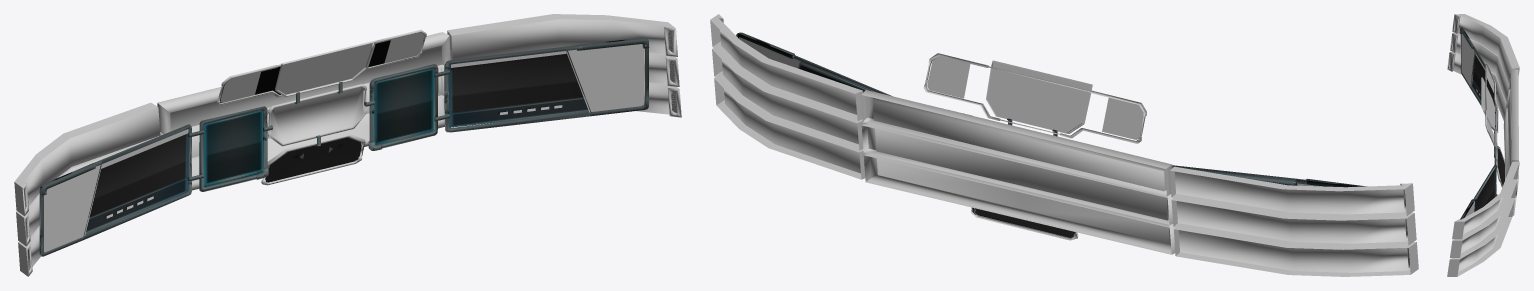
File: scoreboard.fbx
The picture shows the model from 3 angles, left to right: view 1: azimuth 30°, elevation 25°; view 2: azimuth 150°, elevation 25°; view 3: azimuth 270°, elevation 25°; orthographic projection. The views are drawn at different scales.
Visible parts, largest first — view 1: rearPanel_r_geo, teamHome_screen_geo, rearPanel_l_geo, rearPanel_center_geo, centerLow_screen_geo.003, teamHome_tile_geo, centerFrame_geo, centerLow_screen_geo.001, centerLow_screen_geo, teamTile_l_screen_geo, center_screen_geo, teamHome_frame_geo (+10 smaller); view 2: rearPanel_center_geo, rearPanel_l_geo, rearPanel_r_geo, center_screen_geo, sponsorship_frame_geo, centerScreen_geo.002, sponsorship_l_screen_geo, teamHome_frame_geo, center_r_frame_geo, progress_screen_geo, teamHome_tile_geo; view 3: rearPanel_r_geo, rearPanel_l_geo, rearPanel_center_geo, teamTile_l_screen_geo, teamHome_screen_geo, centerLow_screen_geo.003, center_screen_geo, center_r_frame_geo, sponsorship_frame_geo, teamHome_frame_geo, progress_screen_geo, progress_frame_geo (+5 smaller).
Boxes of the visible parts, x1,y1,x2,y2 form: rearPanel_r_geo: (447,14,681,117); teamHome_screen_geo: (449,54,588,127); rearPanel_l_geo: (14,102,160,276); rearPanel_center_geo: (157,32,450,190); centerLow_screen_geo.003: (85,129,188,234); teamHome_tile_geo: (568,44,644,111); centerFrame_geo: (267,84,366,146); centerLow_screen_geo.001: (374,69,433,145); centerLow_screen_geo: (203,110,262,186); teamTile_l_screen_geo: (44,129,188,252); center_screen_geo: (275,40,375,96); teamHome_frame_geo: (444,37,649,132); rearPanel_center_geo: (861,90,1175,254); rearPanel_l_geo: (1170,166,1418,276); rearPanel_r_geo: (710,14,865,179); center_screen_geo: (986,60,1092,133); sponsorship_frame_geo: (923,53,1146,143); centerScreen_geo.002: (927,55,970,98); sponsorship_l_screen_geo: (1102,97,1143,139); teamHome_frame_geo: (736,32,892,96); center_r_frame_geo: (1172,165,1366,187); progress_screen_geo: (971,207,1075,237); teamHome_tile_geo: (739,37,800,68); rearPanel_r_geo: (1447,161,1519,276); rearPanel_l_geo: (1447,14,1519,121); rearPanel_center_geo: (1503,69,1518,215); teamTile_l_screen_geo: (1461,34,1494,86); teamHome_screen_geo: (1475,166,1495,211); centerLow_screen_geo.003: (1472,55,1494,105); center_screen_geo: (1481,77,1495,130); center_r_frame_geo: (1459,27,1496,110); sponsorship_frame_geo: (1485,63,1498,146); teamHome_frame_geo: (1460,164,1496,219); progress_screen_geo: (1497,148,1504,185); progress_frame_geo: (1496,146,1505,187).
Bounding box in the file's own units: 992 × 196 × 147.
